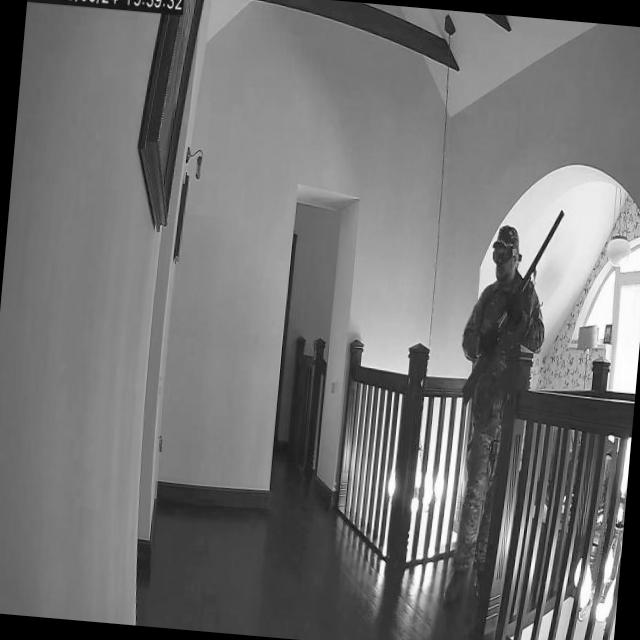gun: (465, 197, 566, 393)
person with a gun: (443, 200, 563, 611)
